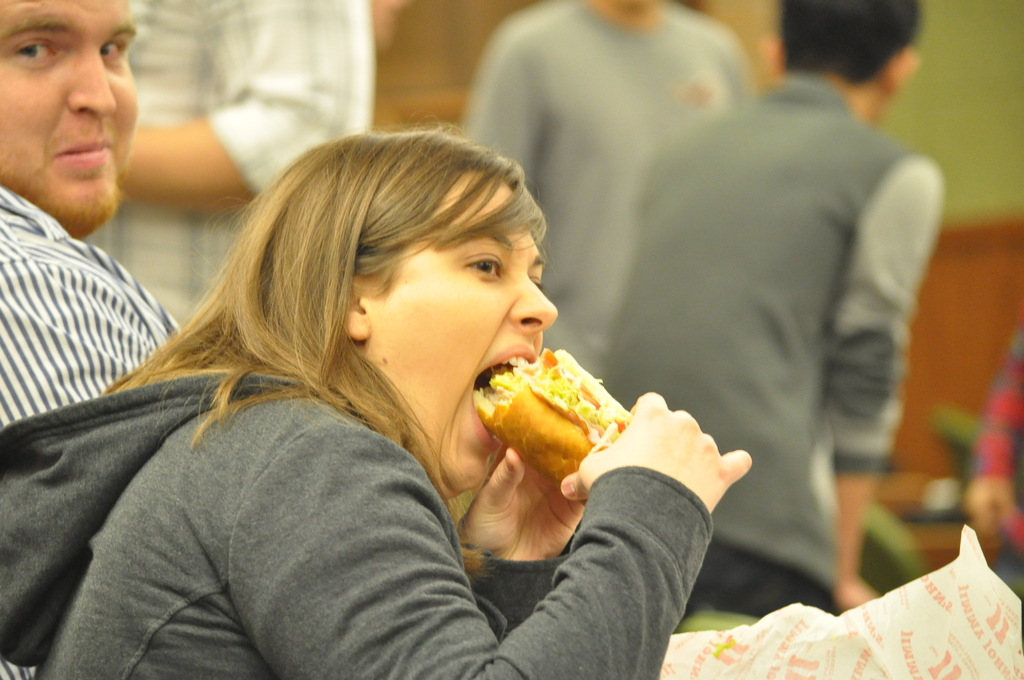hot_dog: (484, 339, 656, 492)
